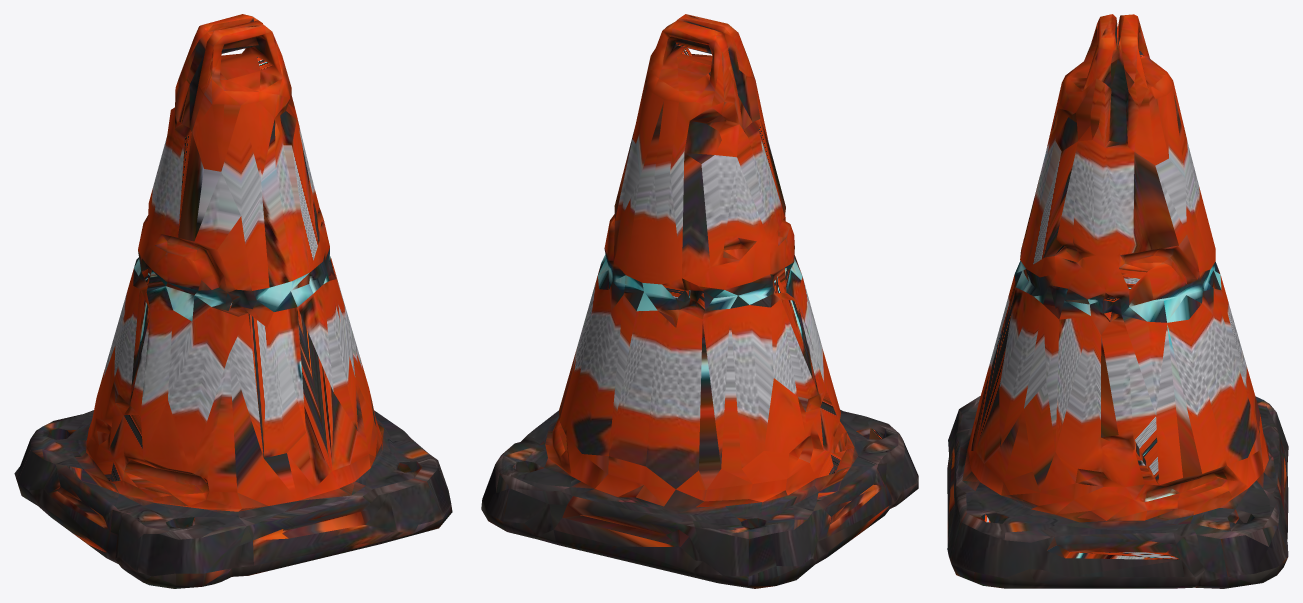
3 views of the same model, side by side, from view 1: azimuth 30°, elevation 25°; view 2: azimuth 150°, elevation 25°; view 3: azimuth 270°, elevation 25° (orthographic). The views are drawn at different scales.
Parts seen in each view (by area): view 1: piece0; view 2: piece0; view 3: piece0.
Boxes of the visible parts, x1,y1,x2,y2 form: piece0: (14,14,452,588); piece0: (481,14,918,588); piece0: (947,14,1288,588).
Bounding box in the file's own units: 0.6923 × 1 × 0.6316.
1 material, 1 textured.
